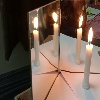fire: (88, 26, 93, 48)
